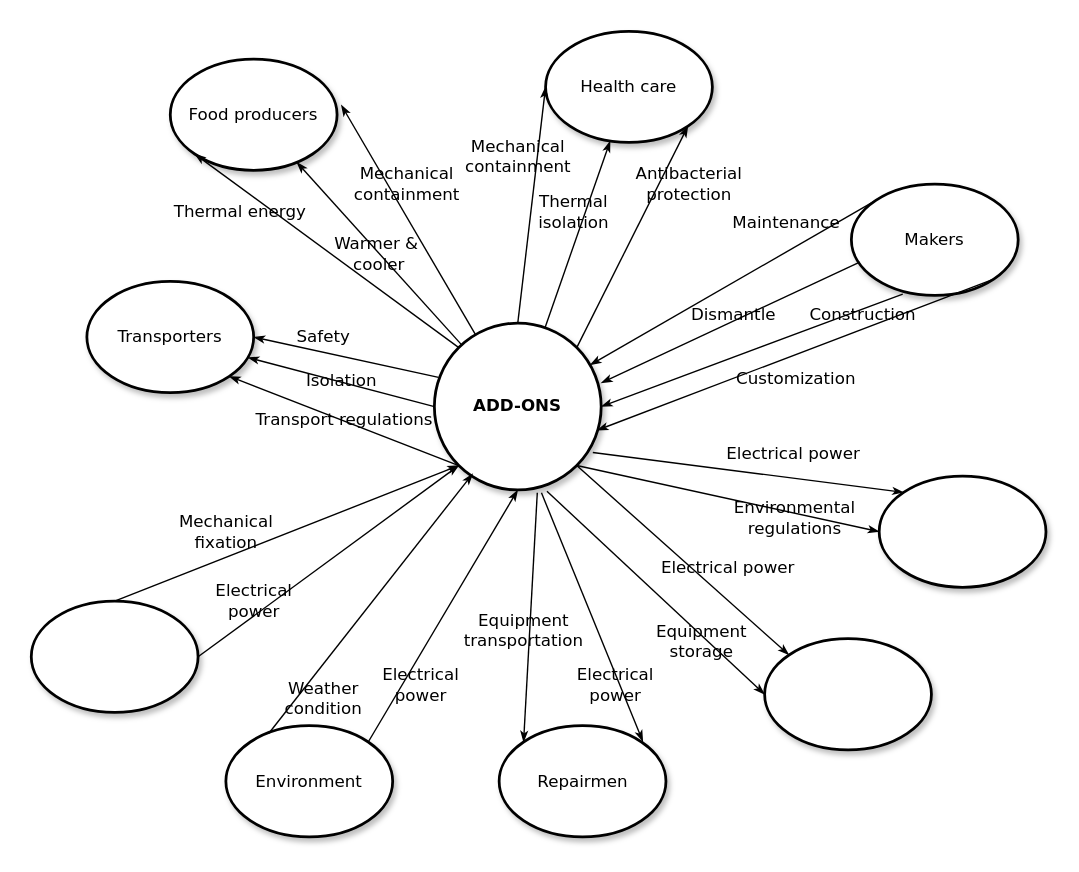
The diagram is 1079 pixels wide and 872 high, and some of its shapes have lost their labels. Here are the shapes that lost their labels. From the top down, the centre of each, then its label:
point 963,533: Environmental activists
point 115,658: XYZ Crago
point 848,695: Craftmen
